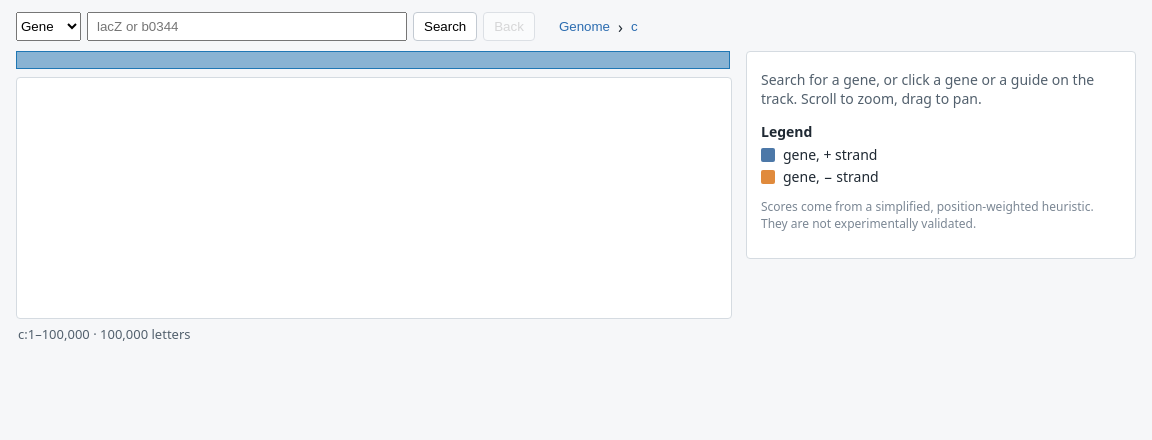
Test: the viewer › searching for a gene selects it, zooms to it, and offers Compute guides
Expected: the button "c" is shown, top-left (627, 17), bottom-right (642, 36)
In the field named "Search": (247, 26) top-left (87, 12), bottom-right (407, 41), type "geneA"
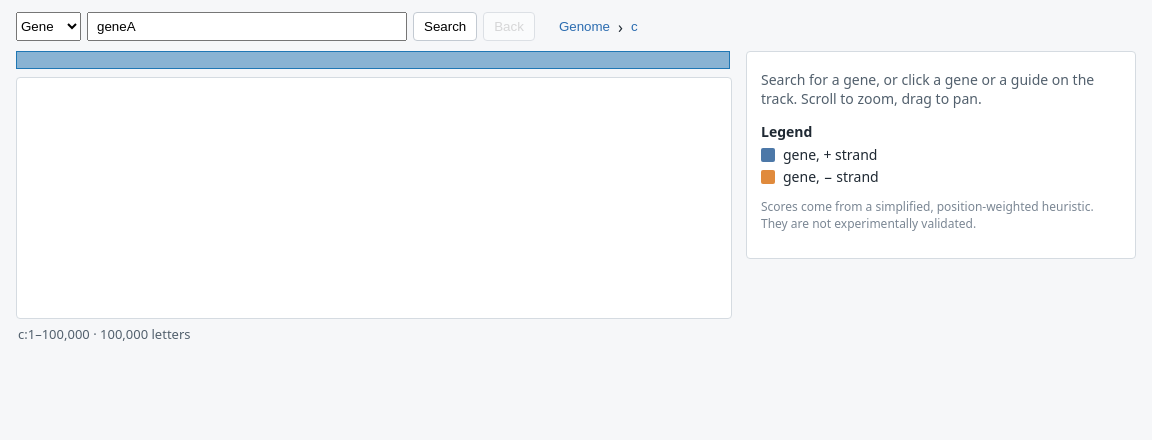
Click the button "Search": (445, 26) top-left (413, 12), bottom-right (477, 41)
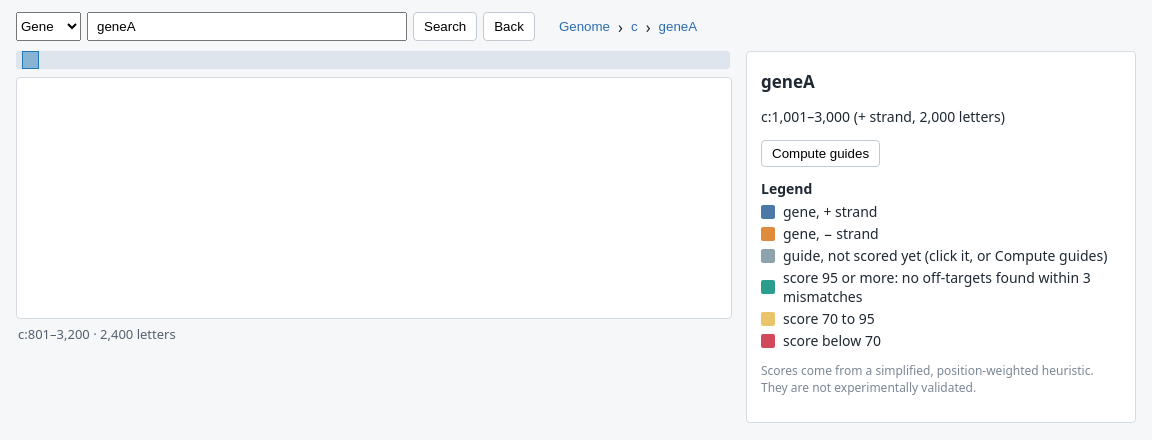
Result: the heading "geneA" is shown at top-left (761, 70), bottom-right (815, 93)
Result: the button "Compute guides" is shown at top-left (761, 140), bottom-right (880, 167)
Result: the text "c:801–3,200 · 2,400 letters" is shown at top-left (18, 325), bottom-right (176, 343)
